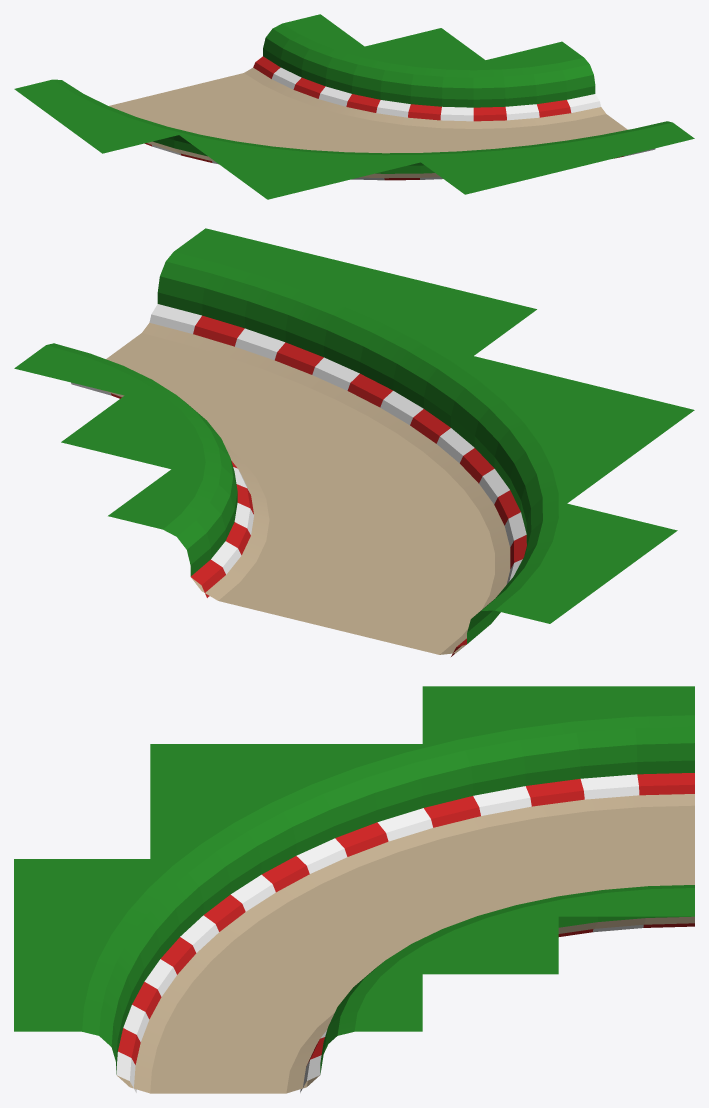
Rendered from Track_Striped_Curve_Widening_5x6.obj.
3 views of the same model, one above another, from view 1: azimuth 30°, elevation 25°; view 2: azimuth 150°, elevation 25°; view 3: azimuth 270°, elevation 25° (orthographic). The views are drawn at different scales.
Parts seen in each view (by area): view 1: Grass, Dirt, Raceline_Color_1, Raceline_Color_2; view 2: Grass, Dirt, Raceline_Color_1, Raceline_Color_2; view 3: Grass, Dirt, Raceline_Color_2, Raceline_Color_1.
Boxes of the visible parts, x1,y1,x2,y2 form: Grass: (14, 14, 694, 199); Dirt: (109, 67, 627, 178); Raceline_Color_1: (152, 67, 655, 180); Raceline_Color_2: (144, 56, 623, 180); Grass: (14, 228, 694, 643); Dirt: (95, 322, 510, 654); Raceline_Color_1: (71, 304, 526, 584); Raceline_Color_2: (111, 315, 526, 656); Grass: (14, 686, 694, 1074); Dirt: (117, 794, 694, 1093); Raceline_Color_2: (118, 773, 694, 1066); Raceline_Color_1: (116, 774, 643, 1092).
Bounding box in the file's own units: 6 × 0.5 × 5.
